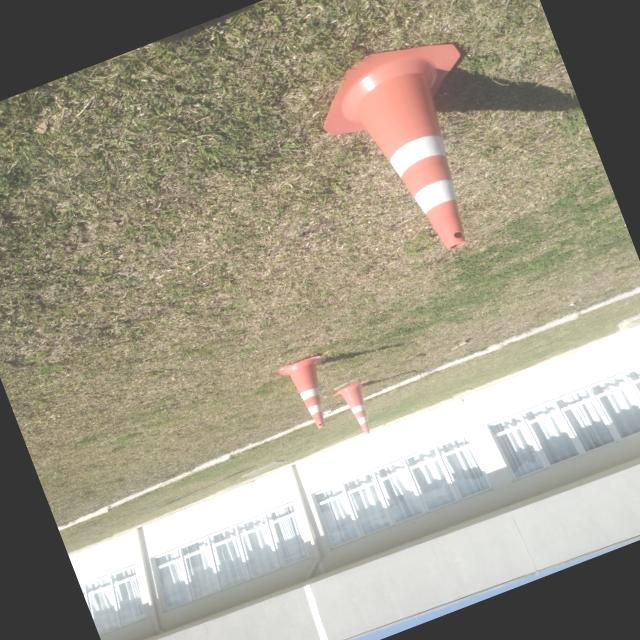cone: (290, 13, 538, 291), (266, 352, 346, 439), (326, 378, 386, 447)
